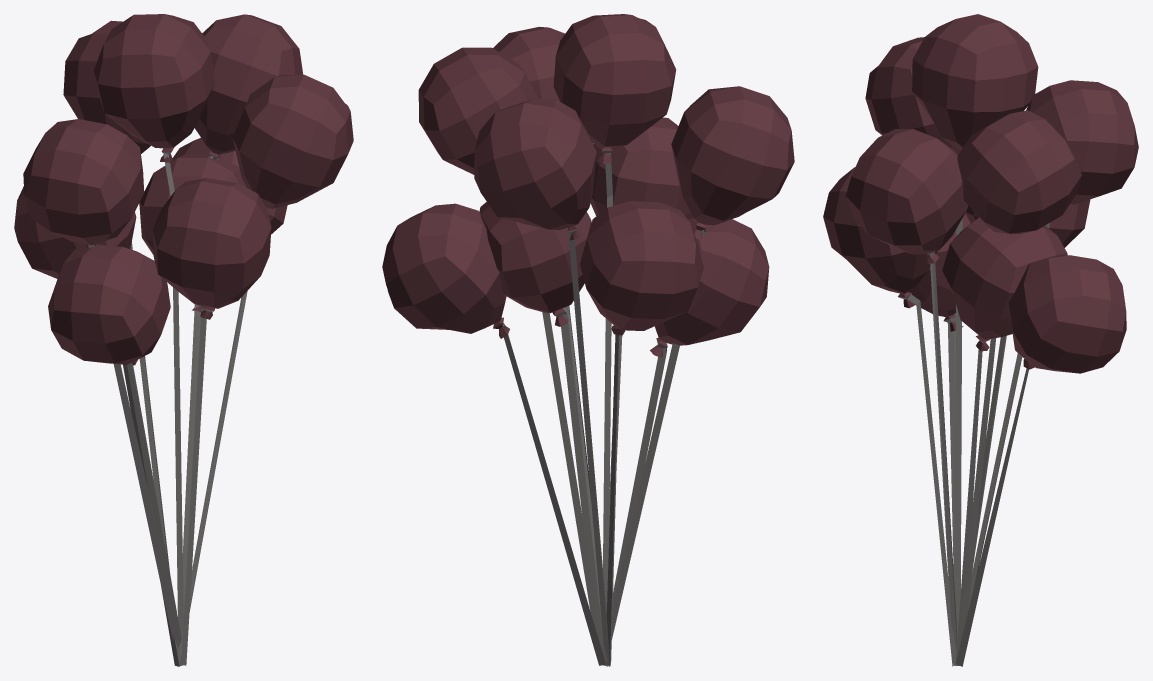
File: balloons-bunch-more.fbx
The picture shows the model from 3 angles, left to right: view 1: azimuth 30°, elevation 25°; view 2: azimuth 150°, elevation 25°; view 3: azimuth 270°, elevation 25°; orthographic projection. The views are drawn at different scales.
Parts seen in each view (by area): view 1: balloons-bunch-more; view 2: balloons-bunch-more; view 3: balloons-bunch-more.
Part boxes in pixels (x1,y1,x2,y2): balloons-bunch-more: (14, 14, 353, 666); balloons-bunch-more: (382, 14, 794, 666); balloons-bunch-more: (823, 14, 1138, 666).
Size of the model in its own units: 1.17 by 2.26 by 1.01.
